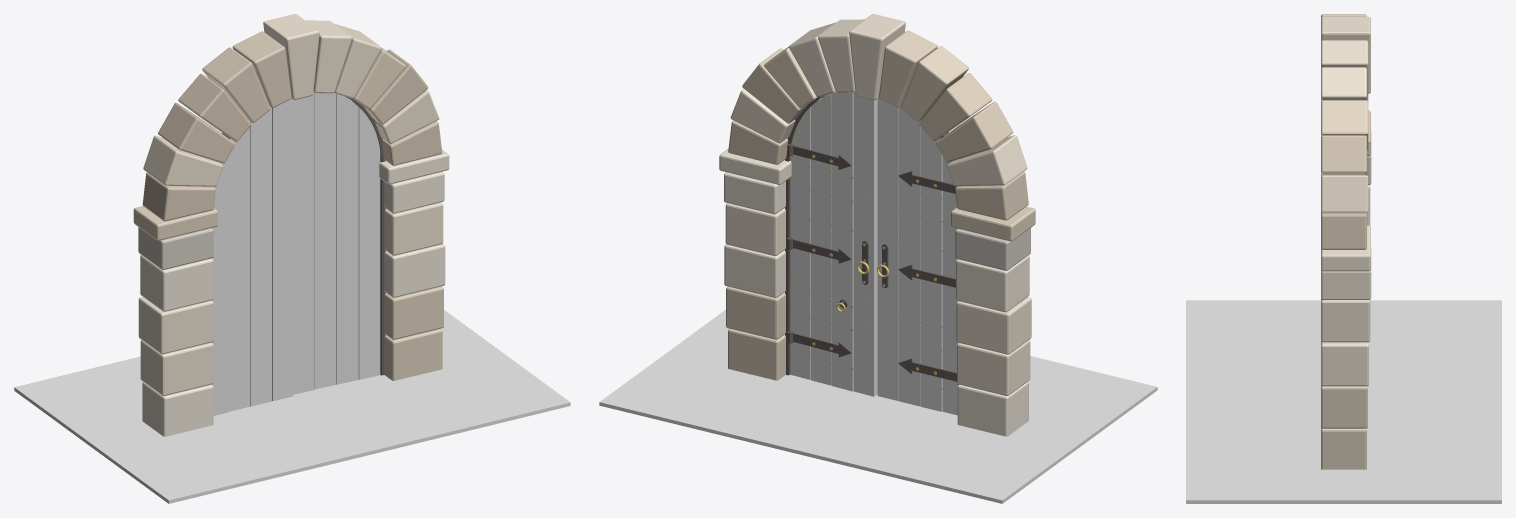
The model's file is castle_door.fbx.
The picture shows the model from 3 angles, left to right: view 1: azimuth 30°, elevation 25°; view 2: azimuth 150°, elevation 25°; view 3: azimuth 270°, elevation 25°; orthographic projection. The views are drawn at different scales.
Visible parts, largest first — view 1: Stone_Arch_Frame, Castle_Ground, Door_Leaf_Right, Door_Leaf_Left, Door_Inner_Frame; view 2: Stone_Arch_Frame, Castle_Ground, Door_Leaf_Right, Door_Leaf_Left, Door_Inner_Frame; view 3: Castle_Ground, Stone_Arch_Frame.
Part boxes in pixels (x1=…): Stone_Arch_Frame: x1=133, y1=14, x2=449, y2=436; Castle_Ground: x1=14, y1=310, x2=570, y2=503; Door_Leaf_Right: x1=293, y1=92, x2=380, y2=394; Door_Leaf_Left: x1=211, y1=98, x2=293, y2=415; Door_Inner_Frame: x1=222, y1=96, x2=385, y2=375; Stone_Arch_Frame: x1=719, y1=14, x2=1035, y2=436; Castle_Ground: x1=599, y1=310, x2=1157, y2=503; Door_Leaf_Right: x1=787, y1=92, x2=877, y2=396; Door_Leaf_Left: x1=877, y1=98, x2=958, y2=415; Door_Inner_Frame: x1=785, y1=95, x2=948, y2=375; Castle_Ground: x1=1186, y1=300, x2=1501, y2=503; Stone_Arch_Frame: x1=1321, y1=14, x2=1371, y2=469.
Size of the model in its own units: 360 by 318 by 240.
